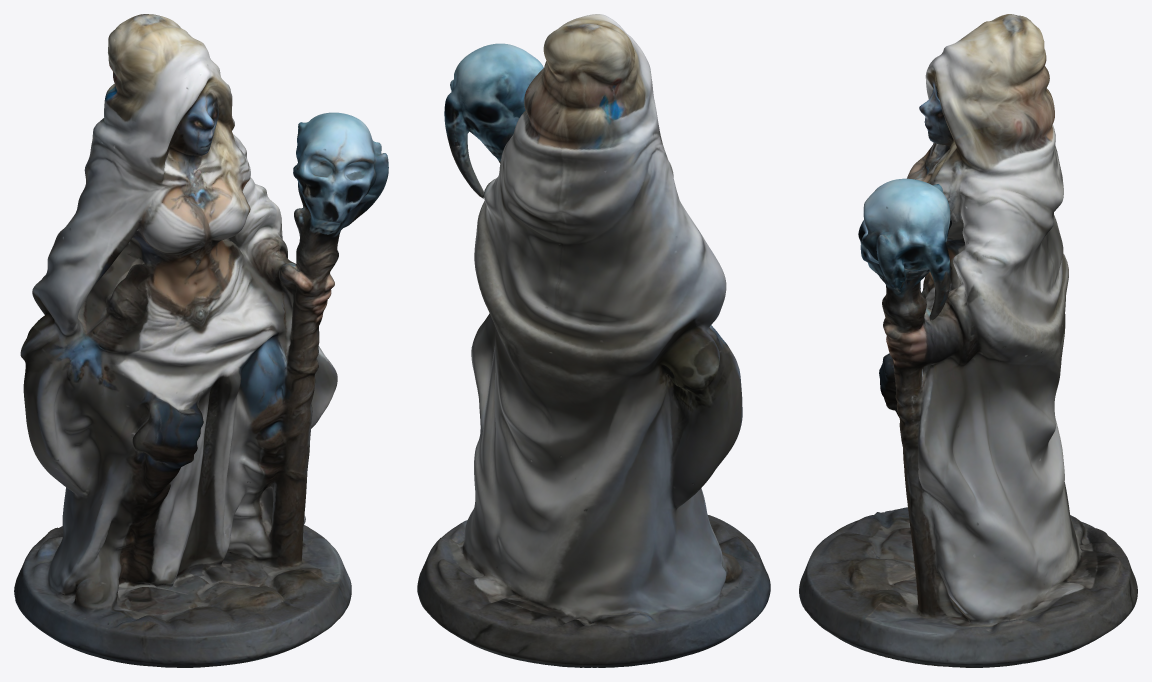
The model's file is female_mage.glb.
The picture shows the model from 3 angles, left to right: view 1: azimuth 30°, elevation 25°; view 2: azimuth 150°, elevation 25°; view 3: azimuth 270°, elevation 25°; orthographic projection. The views are drawn at different scales.
Size of the model in its own units: 1.14 by 2 by 1.07.
Materials: 1 (1 with a texture image).
